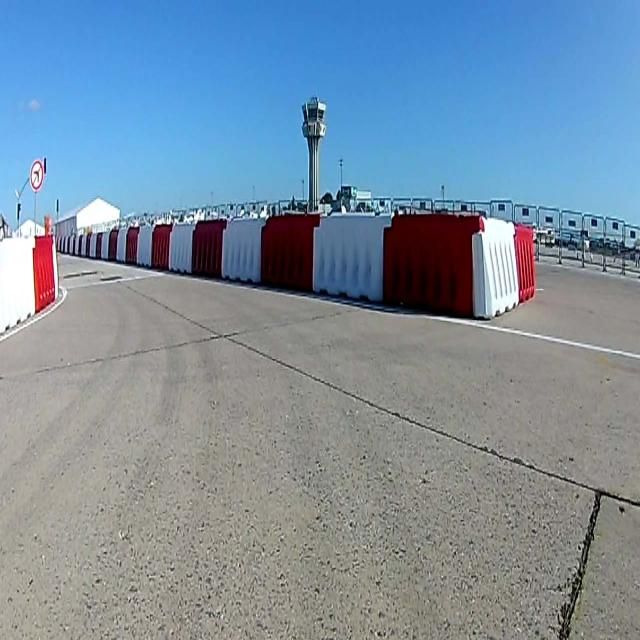soladonulmez: (30, 160, 42, 192)
